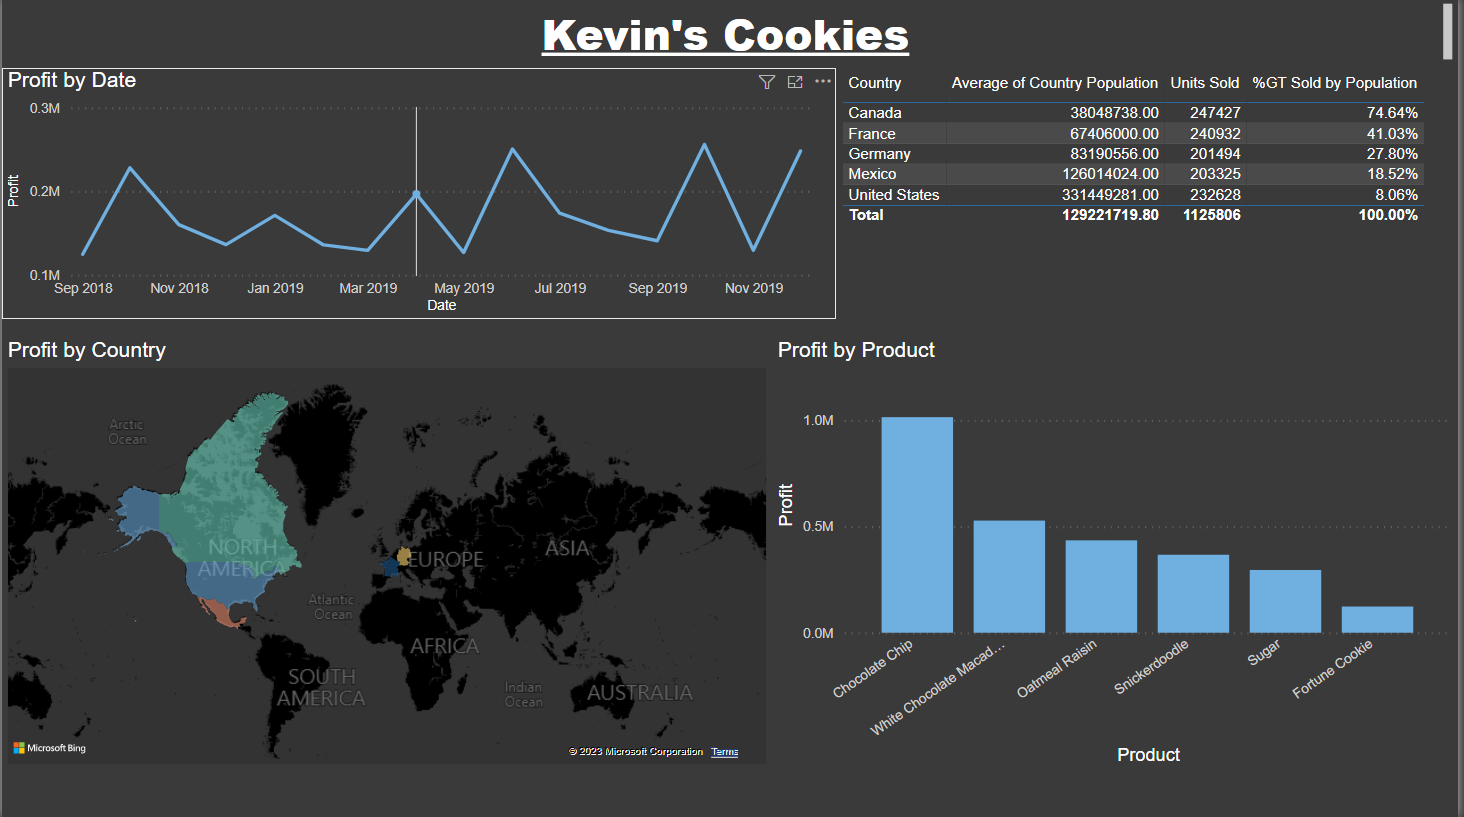

The page's visual inventory and layout, read from the dashboard file:
{"tool":"powerbi","page":{"name":"Page 1","canvas":[1280,720],"ordinal":0},"visuals":[{"type":"textbox","box":[0,0,1280,61.3],"z":0},{"type":"lineChart","fields":{"Category":["Cookie Sales.Date"],"Y":["Cookie Sales.Profit"]},"box":[0,61.3,733.4,220.8],"z":1000},{"type":"filledMap","fields":{"Category":["Cookie Sales.Country"]},"box":[0,298.6,677,380.3],"z":2000},{"type":"tableEx","fields":{"Values":["Cookie Sales.Country","Cookie Sales.Country Population.Population","Cookie Sales.Units Sold","Cookie Sales.Units Sold divided by Average of Country Population.Population"]},"box":[733.4,61.3,546.6,220.8],"z":3000},{"type":"columnChart","fields":{"Category":["Cookie Sales.Product"],"Y":["Cookie Sales.Profit"]},"box":[677,298.6,603,380.3],"z":4000}]}

Visuals, with their boxes in screenshot pixels (x1, y1, x2, y2), scaled from the page's 1280x720 canvas onto the 1464x817 screenshot:
textbox: 0, 0, 1463, 70
lineChart - Cookie Sales.Date x Cookie Sales.Profit: 0, 70, 839, 320
filledMap - Cookie Sales.Country: 0, 339, 774, 770
tableEx - Cookie Sales.Country x Cookie Sales.Country Population.Population: 839, 70, 1463, 320
columnChart - Cookie Sales.Product x Cookie Sales.Profit: 774, 339, 1463, 770
